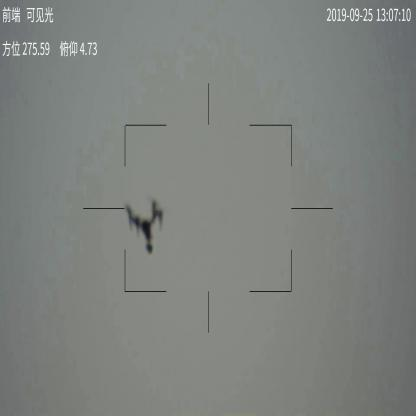uav: (123, 197, 165, 253)
